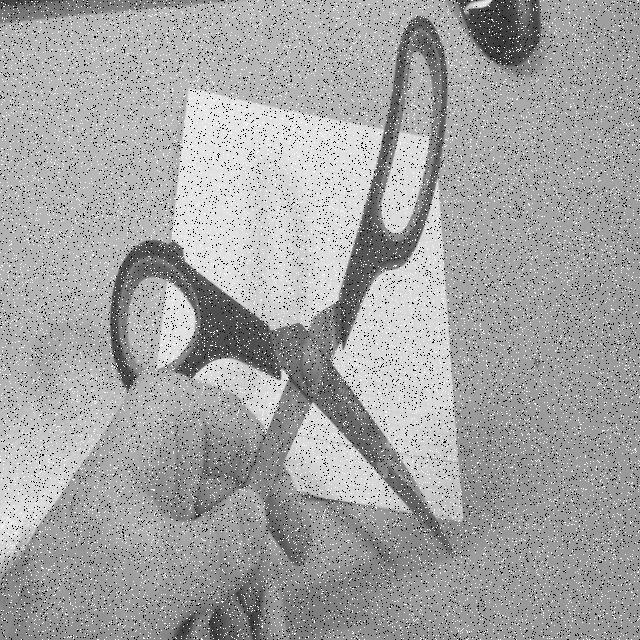scissors: (106, 12, 462, 626)
